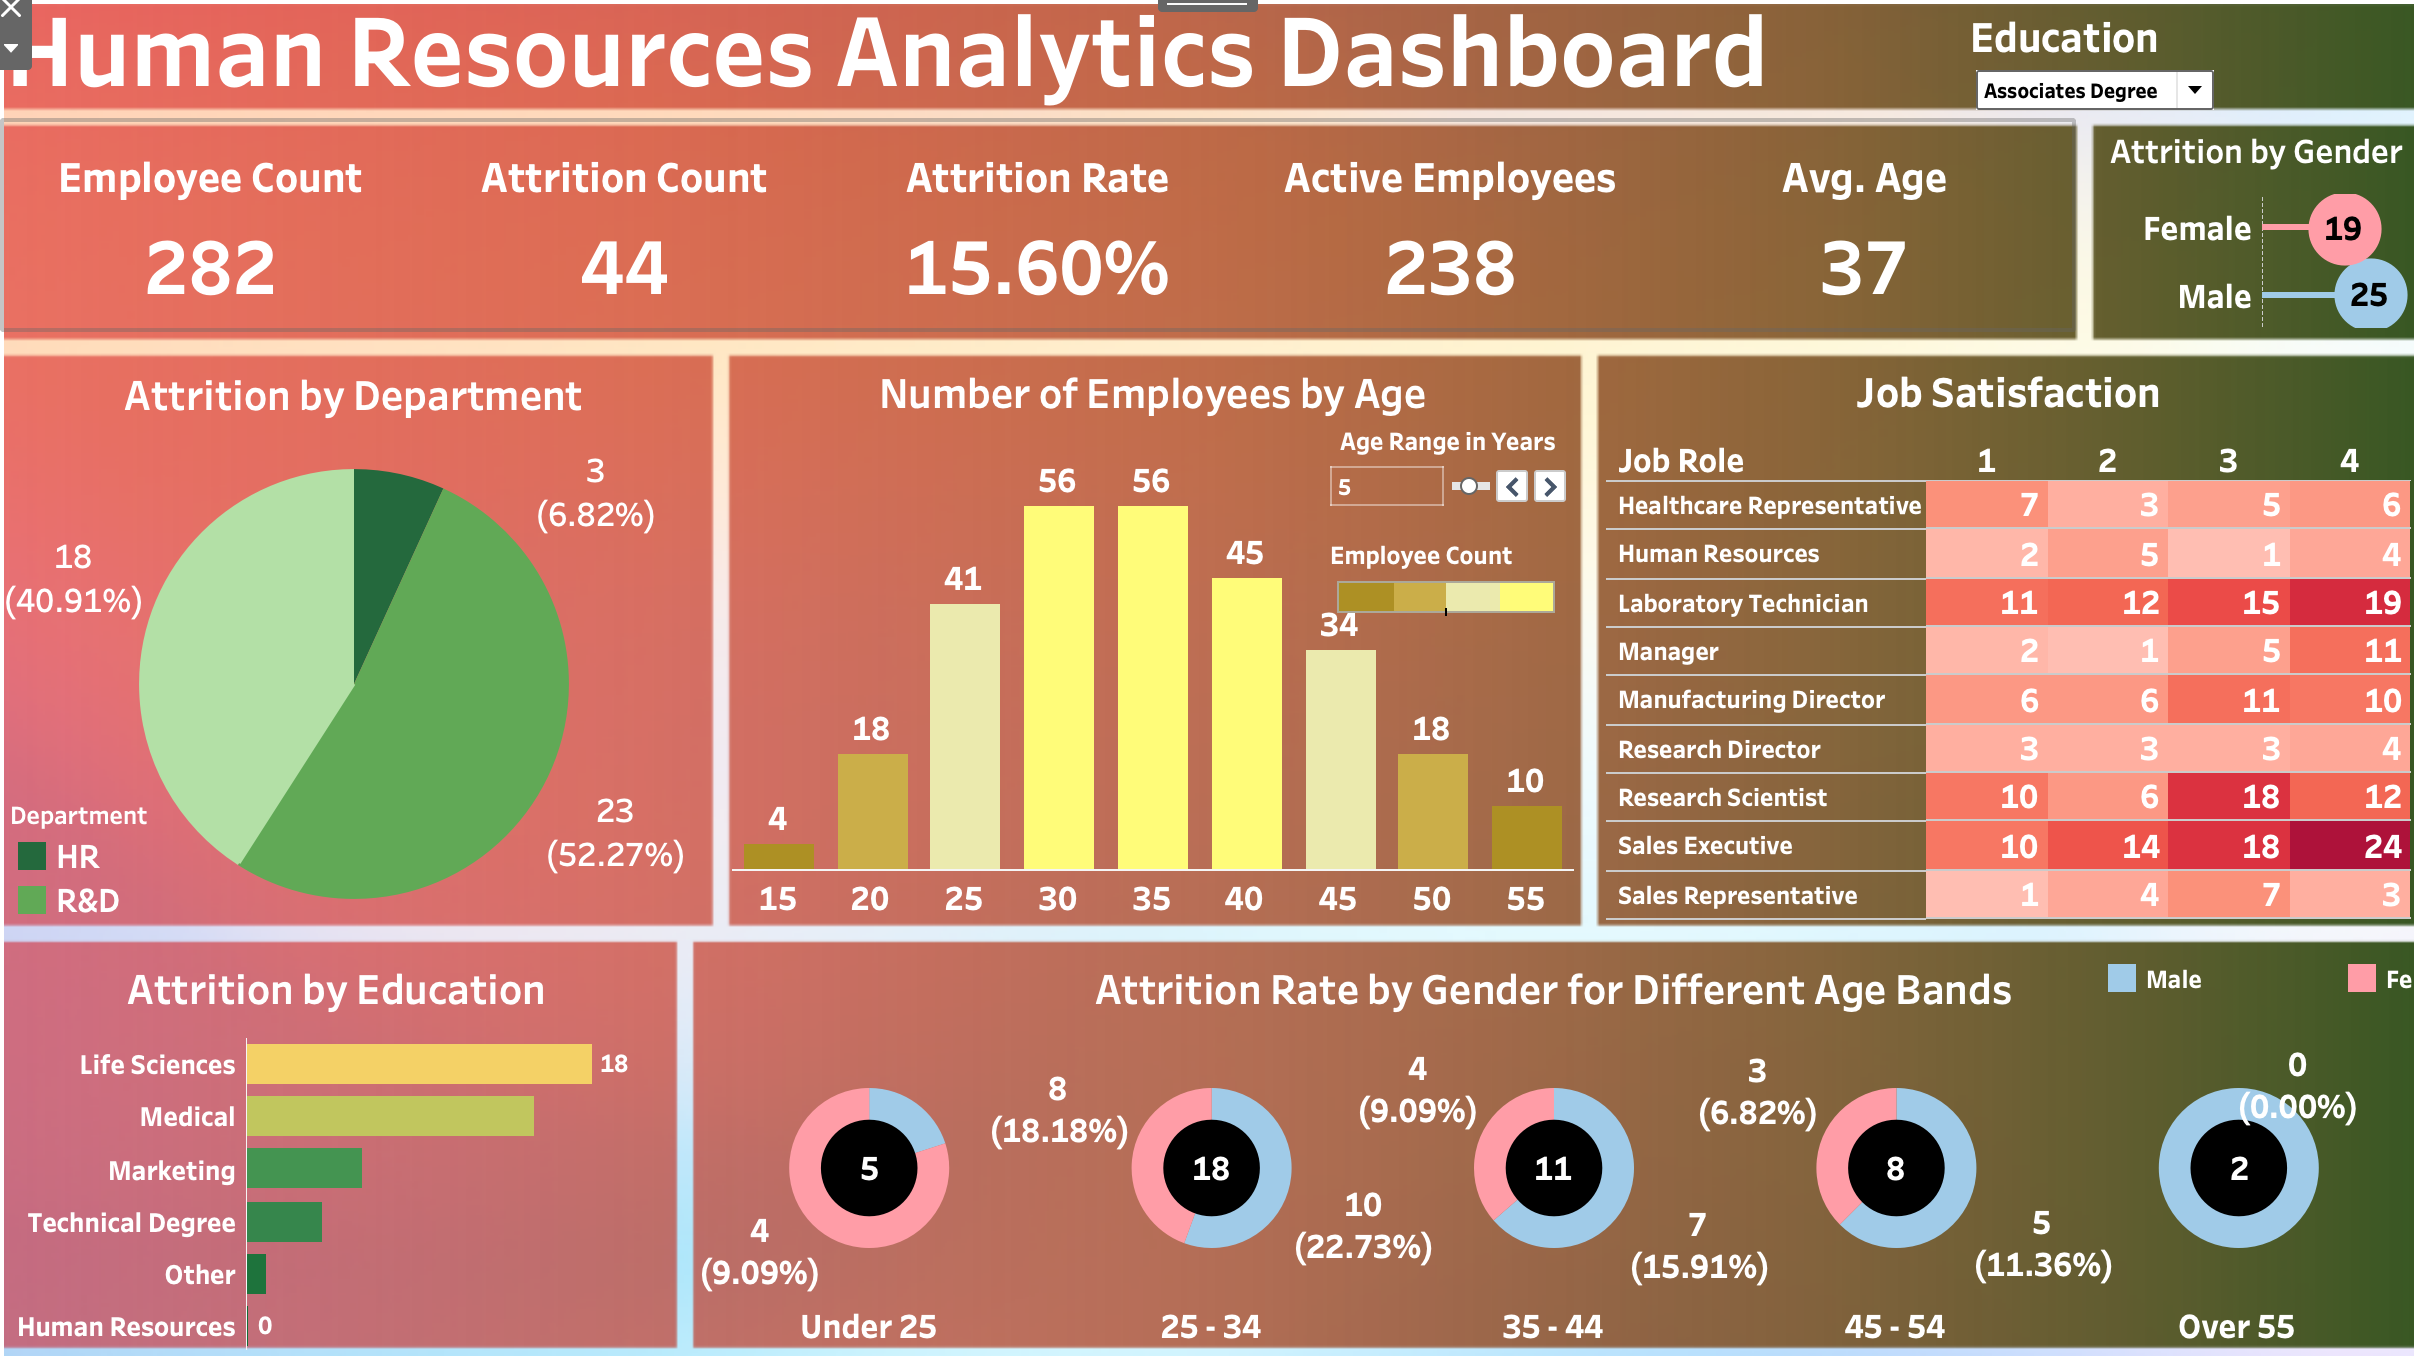

The dashboard page shown, as its layout file describes it:
{"tool":"tableau","page":{"name":"Human Resources Dashboard","canvas":[1580,900],"ordinal":0},"visuals":[{"type":"image","param":"/Users/chrisgaruba/Documents/PROJECTS/ORIGINAL PROJECT DATA/Data Analyst Portfol","box":[8,8,1564,884]},{"type":"text","box":[13,12,892,67]},{"type":"filter","title":"Attrition by Department","param":"[federated.16fzf2y1m25ecy1cqt7hm1aib45q].[none:Education:nk]","box":[1219,18,160,138]},{"type":"worksheet","title":"Attrition by Gender","mark":"Automatic","rows":["Gender"],"cols":["Calculation_1640436225959071744","Calculation_1640436225959071744"],"box":[1364,93,201,132]},{"type":"worksheet","title":"KPI","mark":"Automatic","box":[16,94,1329,131]},{"type":"worksheet","title":"Number of Employees by Age","mark":"Automatic","rows":["Employee Count"],"cols":["Age (bin)"],"box":[484,243,541,360]},{"type":"worksheet","title":"Job Satisfaction","mark":"Square","rows":["Job Role"],"cols":["Job Satisfaction"],"box":[1045,243,518,359]},{"type":"worksheet","title":"Attrition by Department","mark":"Pie","box":[14,244,453,360]},{"type":"parameter","param":"[Parameters].[Parameter 1]","box":[864,287,160,67]},{"type":"legend","title":"Number of Employees by Age","param":"[federated.16fzf2y1m25ecy1cqt7hm1aib45q].[sum:Employee Count:qk]","box":[868,359,150,52]},{"type":"legend","title":"Attrition by Department","param":"[federated.16fzf2y1m25ecy1cqt7hm1aib45q].[none:Department:nk]","box":[19,525,140,78]},{"type":"worksheet","title":"Attrition by Education","mark":"Automatic","rows":["Education Field"],"cols":["Calculation_1640436225959071744"],"box":[17,622,425,254]},{"type":"worksheet","title":"Attrition Rate by Gender for Different Age Bands","mark":"Pie","rows":["Calculation_1640436226023108614","Calculation_1640436226023129096"],"cols":["CF_age band"],"box":[462,622,1101,253]}]}

Visuals, with their boxes in screenshot pixels (x1, y1, x2, y2), scaled from the page's 1580x900 canvas onto the 2418x1356 screenshot:
image: <box>12,12,2406,1344</box>
text: <box>20,18,1385,119</box>
"Attrition by Department" filter: <box>1866,27,2110,235</box>
"Attrition by Gender" worksheet: <box>2087,140,2395,339</box>
"KPI" worksheet: <box>24,142,2058,339</box>
"Number of Employees by Age" worksheet: <box>741,366,1569,909</box>
"Job Satisfaction" worksheet (Square marks): <box>1599,366,2392,907</box>
"Attrition by Department" worksheet (Pie marks): <box>21,368,715,910</box>
parameter: <box>1322,432,1567,533</box>
"Number of Employees by Age" legend: <box>1328,541,1558,619</box>
"Attrition by Department" legend: <box>29,791,243,909</box>
"Attrition by Education" worksheet: <box>26,937,676,1320</box>
"Attrition Rate by Gender for Different Age Bands" worksheet (Pie marks): <box>707,937,2392,1318</box>
